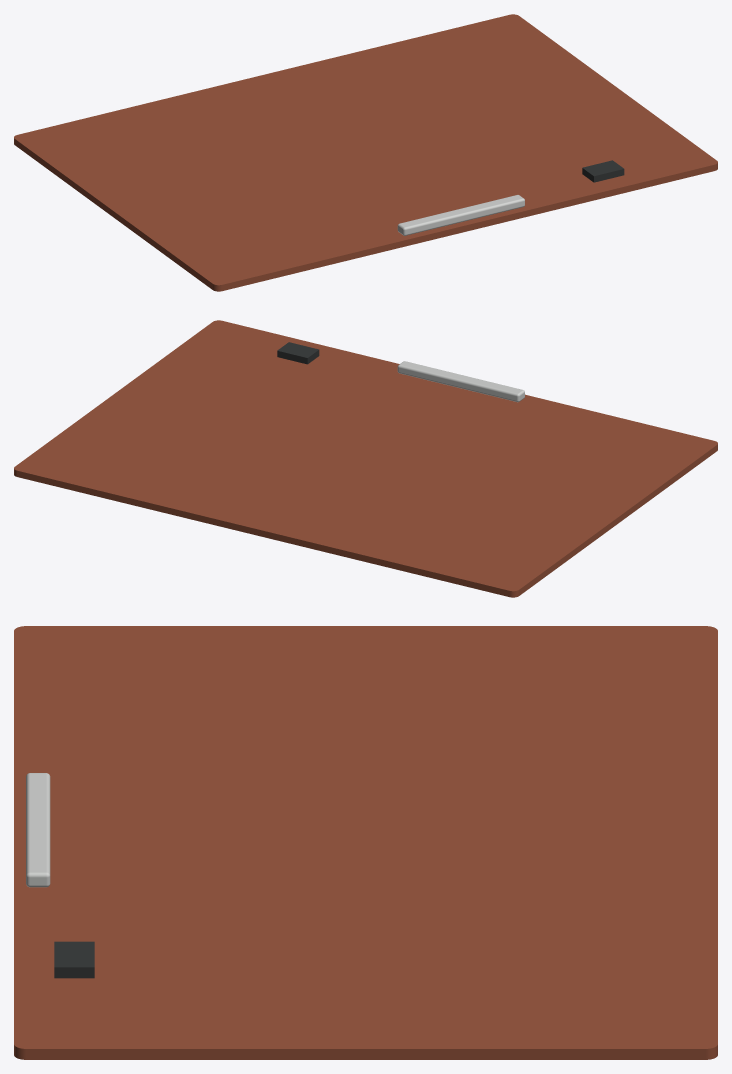
Rendered from amr_two_tote_top_module_cover.glb.
3 views of the same model, one above another, from view 1: azimuth 30°, elevation 25°; view 2: azimuth 150°, elevation 25°; view 3: azimuth 270°, elevation 25° (orthographic). The views are drawn at different scales.
Visible parts, largest first — view 1: amr_two_tote_top_module_cover_accent, amr_two_tote_top_module_cover_steel, amr_two_tote_top_module_cover_graphite; view 2: amr_two_tote_top_module_cover_accent, amr_two_tote_top_module_cover_steel, amr_two_tote_top_module_cover_graphite; view 3: amr_two_tote_top_module_cover_accent, amr_two_tote_top_module_cover_steel, amr_two_tote_top_module_cover_graphite.
Boxes of the visible parts, x1,y1,x2,y2 form: amr_two_tote_top_module_cover_accent: [14, 14, 717, 291]; amr_two_tote_top_module_cover_steel: [397, 195, 524, 235]; amr_two_tote_top_module_cover_graphite: [582, 160, 624, 182]; amr_two_tote_top_module_cover_accent: [14, 320, 717, 597]; amr_two_tote_top_module_cover_steel: [397, 361, 524, 402]; amr_two_tote_top_module_cover_graphite: [277, 342, 319, 364]; amr_two_tote_top_module_cover_accent: [14, 626, 717, 1059]; amr_two_tote_top_module_cover_steel: [26, 773, 50, 887]; amr_two_tote_top_module_cover_graphite: [54, 941, 94, 978].
Size of the model in its own units: 0.496 by 0.014 by 0.349.
